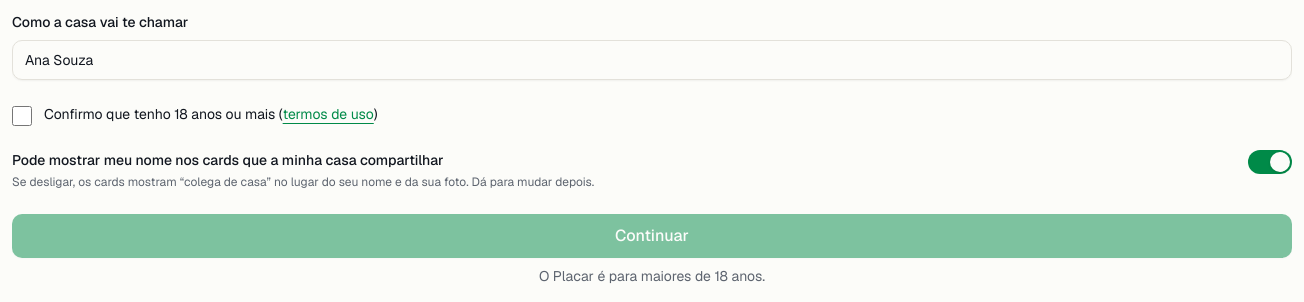
OnboardingForm › só libera o Continuar depois da confirmação de 18+
expect the field labelled "Como a casa vai te chamar" holds "Ana Souza": met, box [12,40,1292,80]
expect the button "Continuar" is disabled: met, box [12,214,1292,258]
Click the checkbox labelled "Confirmo que tenho 18 anos ou mais ( termos de uso )".
click(22, 116)  # box [12,106,32,126]
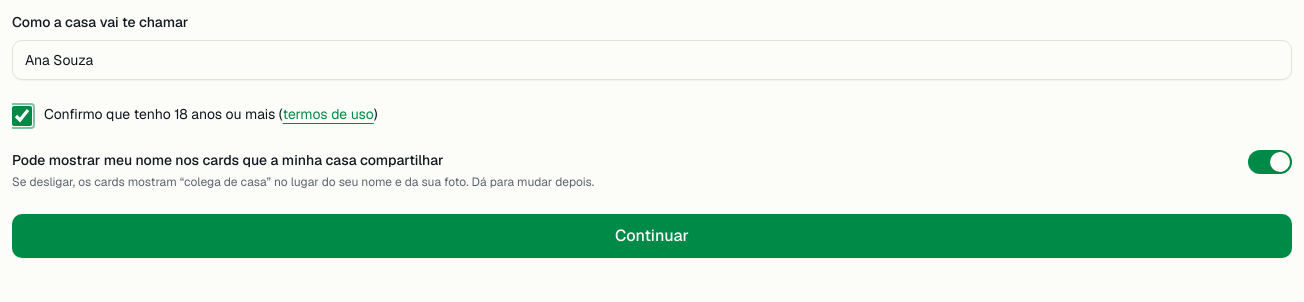
expect the button "Continuar" is enabled: met, box [12,214,1292,258]
expect the text "O Placar é para maiores de 18 anos." is gone: met
